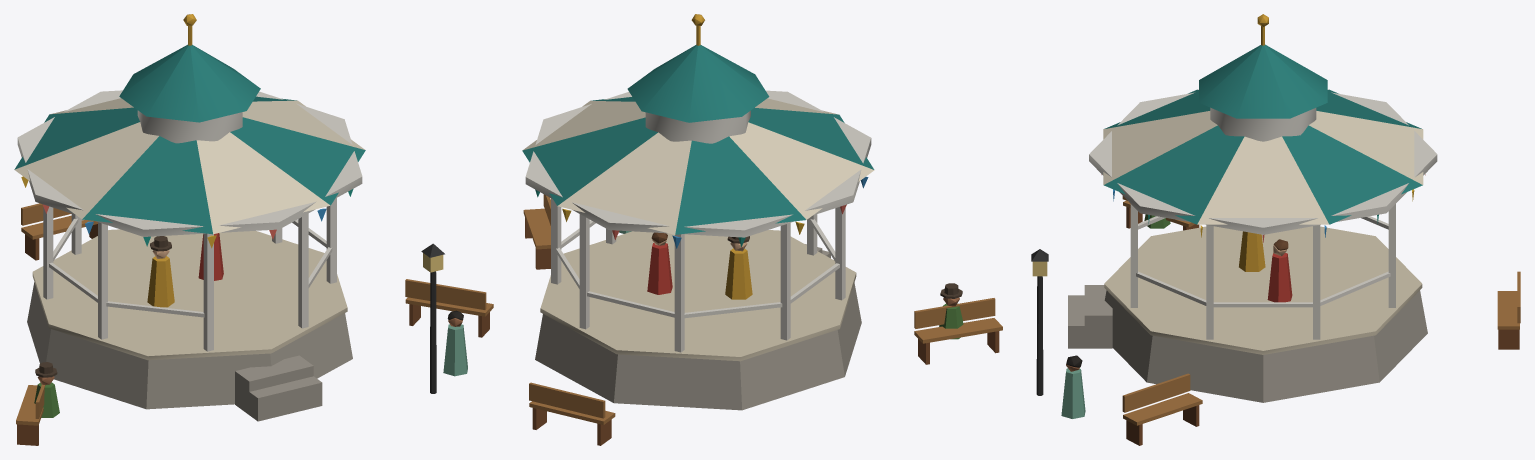
The model's file is bandstand.glb.
The picture shows the model from 3 angles, left to right: view 1: azimuth 30°, elevation 25°; view 2: azimuth 150°, elevation 25°; view 3: azimuth 270°, elevation 25°; orthographic projection. The views are drawn at different scales.
Visible parts, largest first — view 1: town-bandstand; view 2: town-bandstand; view 3: town-bandstand.
Part boxes in pixels (x1,y1,x2,y2): town-bandstand: (14,14,493,445); town-bandstand: (522,14,1002,445); town-bandstand: (1031,14,1520,445).
Size of the model in its own units: 9.65 by 6.28 by 8.77.
